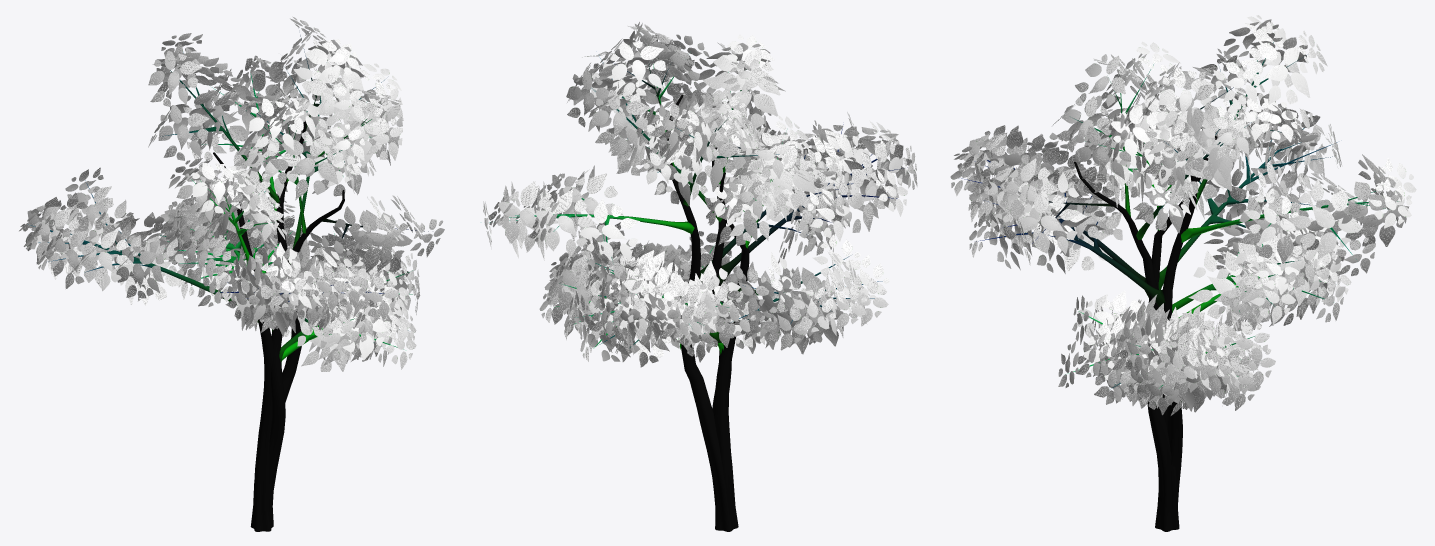
File: BlossomTree.fbx
3 views of the same model, side by side, from view 1: azimuth 30°, elevation 25°; view 2: azimuth 150°, elevation 25°; view 3: azimuth 270°, elevation 25° (orthographic). The views are drawn at different scales.
Parts seen in each view (by area): view 1: Tree_1, Tree_0; view 2: Tree_1, Tree_0; view 3: Tree_1, Tree_0.
Boxes of the visible parts, bbox=[...] form: Tree_1: bbox=[19, 16, 444, 371]; Tree_0: bbox=[28, 35, 428, 531]; Tree_1: bbox=[483, 22, 917, 367]; Tree_0: bbox=[489, 58, 907, 531]; Tree_1: bbox=[950, 15, 1416, 415]; Tree_0: bbox=[961, 42, 1397, 531].
Bounding box in the file's own units: 233 × 295 × 252.
